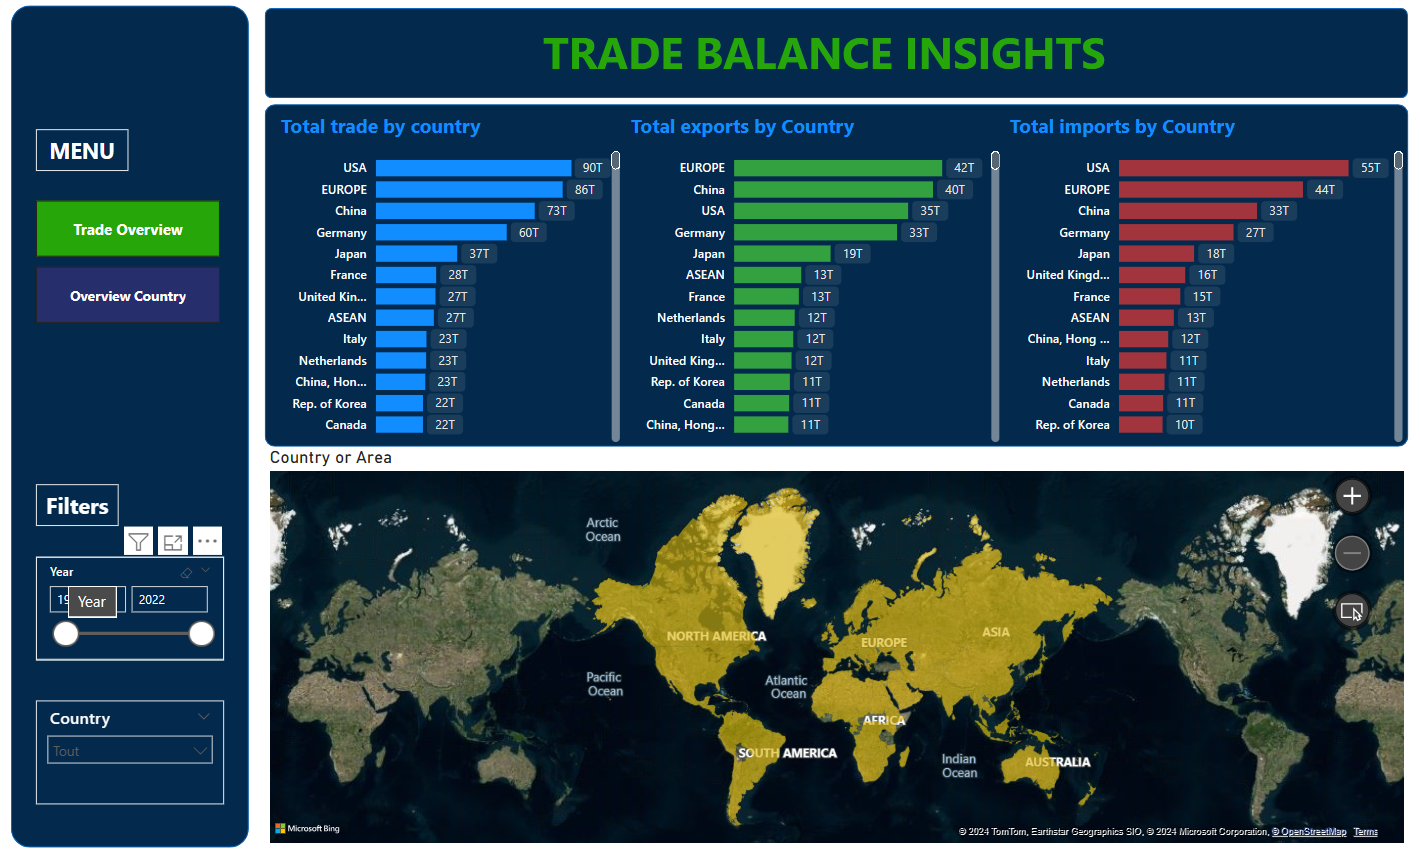

The page's visual inventory and layout, read from the dashboard file:
{"tool":"powerbi","page":{"name":"Trade Overview","canvas":[1400,840],"ordinal":0},"visuals":[{"type":"shape","box":[262.5,104.3,1118.9,335.1],"z":0},{"type":"shape","box":[15,7.5,232.6,824],"z":1000},{"type":"clusteredBarChart","title":"Total trade by country","fields":{"Category":["worldtrade.Country or Area"],"Y":["worldtrade.Total_Trade"]},"box":[274.4,112.1,341.6,327.1],"z":2000},{"type":"clusteredBarChart","title":"Total imports  by Country","fields":{"Category":["worldtrade.Country or Area"],"Y":["worldtrade.Total_Imports"]},"box":[986.7,112.1,394.4,327.1],"z":3000},{"type":"clusteredBarChart","title":"Total exports by Country","fields":{"Category":["worldtrade.Country or Area"],"Y":["worldtrade.Total_Exports"]},"box":[616,112.1,370.7,327.1],"z":4000},{"type":"filledMap","fields":{"Category":["worldtrade.Country or Area"]},"box":[263,439,1119,393],"z":5000},{"type":"shape","box":[262.5,9.2,1118.6,88.4],"z":6000},{"type":"slicer","fields":{"Values":["worldtrade.Year"]},"box":[39,546.9,184,101.3],"z":7000},{"type":"slicer","fields":{"Values":["worldtrade.Country or Area"]},"box":[39,687.2,184,101.3],"z":8000},{"type":"pageNavigator","box":[39,198,180.8,121.6],"z":9000},{"type":"textbox","box":[39,127.8,90.4,40.5],"z":10000},{"type":"textbox","box":[39,475.5,81.1,40.5],"z":11000},{"type":"textbox","box":[392.9,18.7,835.6,68.6],"z":12000}]}

Visuals, with their boxes on the page's 1400x840 design canvas (x1, y1, x2, y2). These are canvas units, not pixel positions in the 1420x851 screenshot, which may show the page scaled, cropped or inside an application window:
shape: [left=262, top=104, right=1381, bottom=439]
shape: [left=15, top=8, right=248, bottom=832]
"Total trade by country" clusteredBarChart: [left=274, top=112, right=616, bottom=439]
"Total imports  by Country" clusteredBarChart: [left=987, top=112, right=1381, bottom=439]
"Total exports by Country" clusteredBarChart: [left=616, top=112, right=987, bottom=439]
filledMap - worldtrade.Country or Area: [left=263, top=439, right=1382, bottom=832]
shape: [left=262, top=9, right=1381, bottom=98]
slicer - worldtrade.Year: [left=39, top=547, right=223, bottom=648]
slicer - worldtrade.Country or Area: [left=39, top=687, right=223, bottom=788]
pageNavigator: [left=39, top=198, right=220, bottom=320]
textbox: [left=39, top=128, right=129, bottom=168]
textbox: [left=39, top=476, right=120, bottom=516]
textbox: [left=393, top=19, right=1228, bottom=87]
